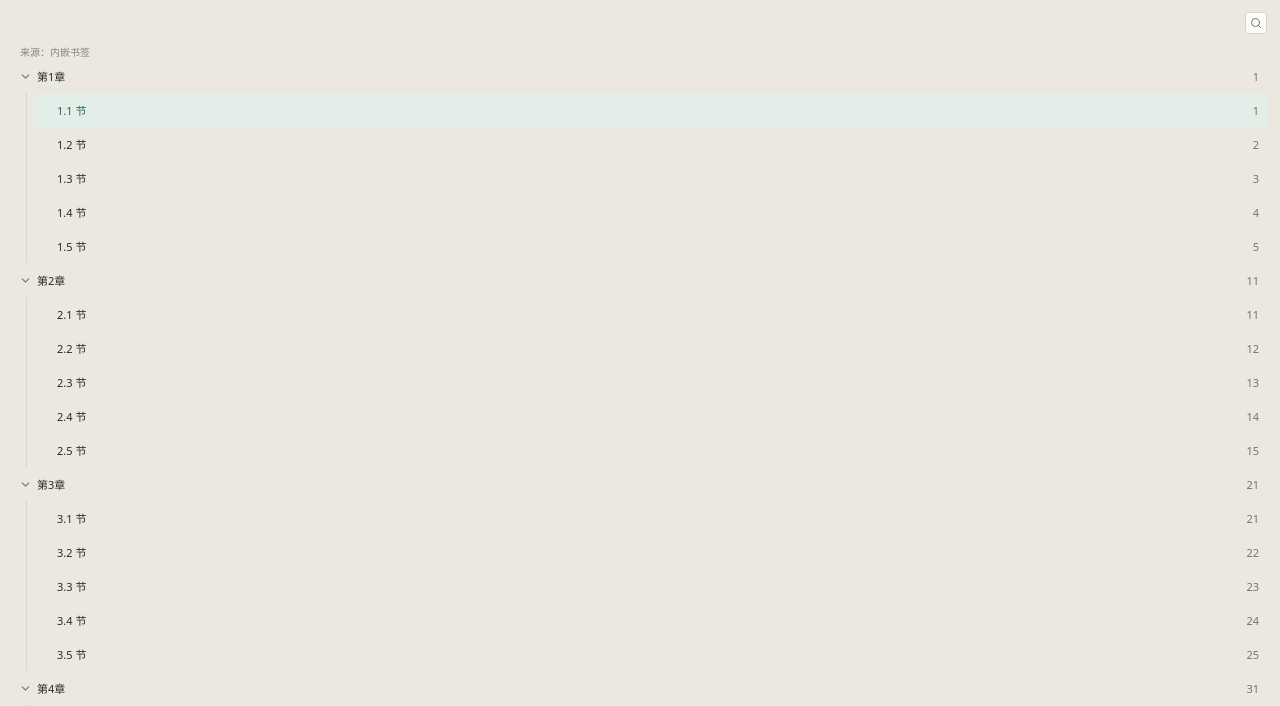
Test: OutlinePanel › shows the observer entry only when wired (dev builds) and forwards clicks
The width and height of the screenshot is (1280, 706).
Click the button with class "observer-open".
click(1256, 23)  # box [1245,12,1267,34]
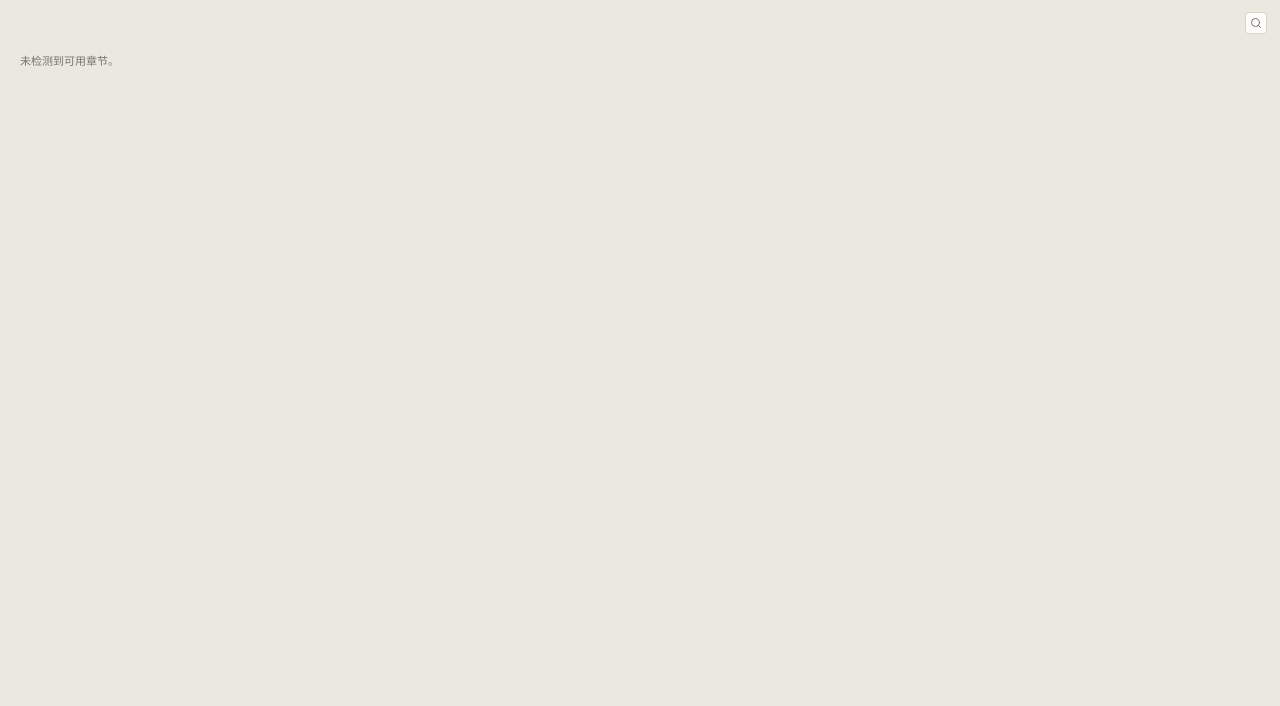
Expected: the text "未检测到可用章节。" is shown, [20,53,119,68]
